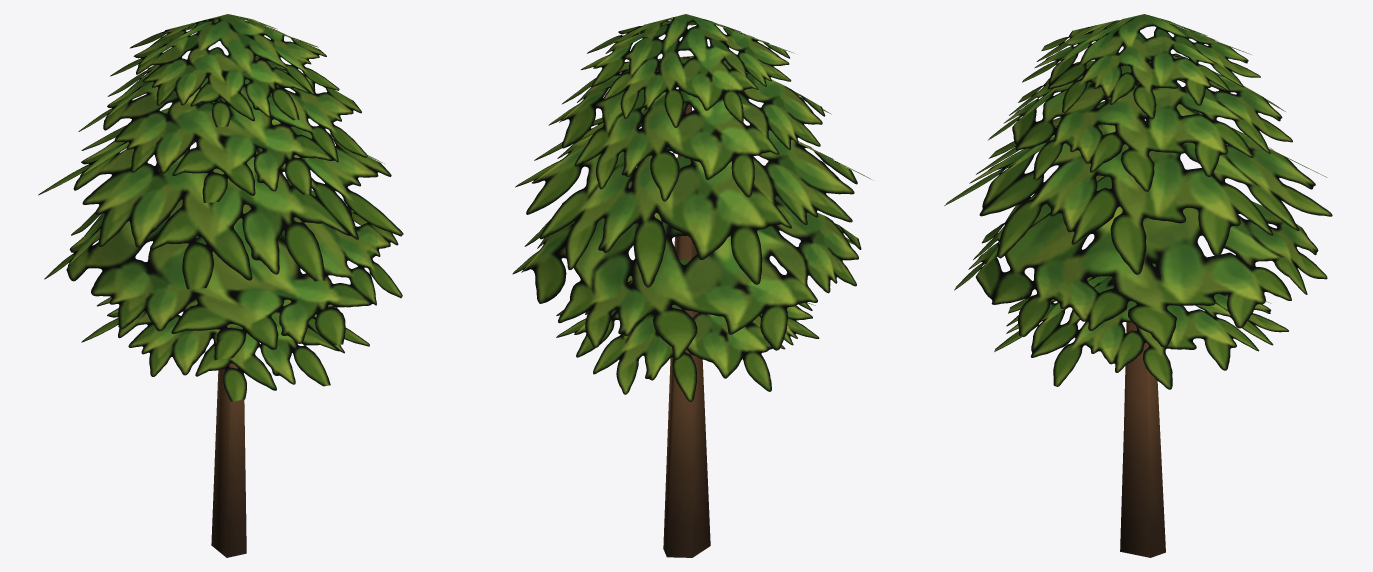
The model's file is tree_02.FBX.
The picture shows the model from 3 angles, left to right: view 1: azimuth 30°, elevation 25°; view 2: azimuth 150°, elevation 25°; view 3: azimuth 270°, elevation 25°; orthographic projection.
Parts seen in each view (by area): view 1: tree_02; view 2: tree_02; view 3: tree_02.
Part boxes in pixels (bbox=[...]): tree_02: bbox=[38, 14, 403, 557]; tree_02: bbox=[512, 14, 873, 557]; tree_02: bbox=[944, 14, 1332, 557].
Bounding box in the file's own units: 887 × 1298 × 944.
